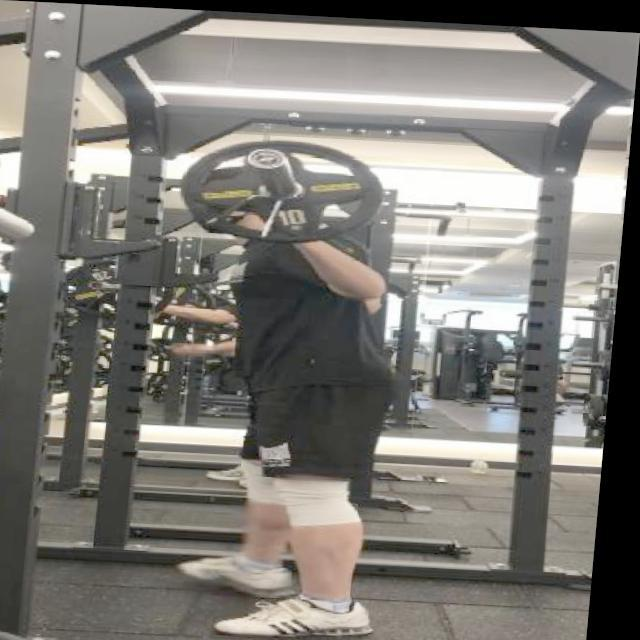barbell: (177, 131, 394, 251)
